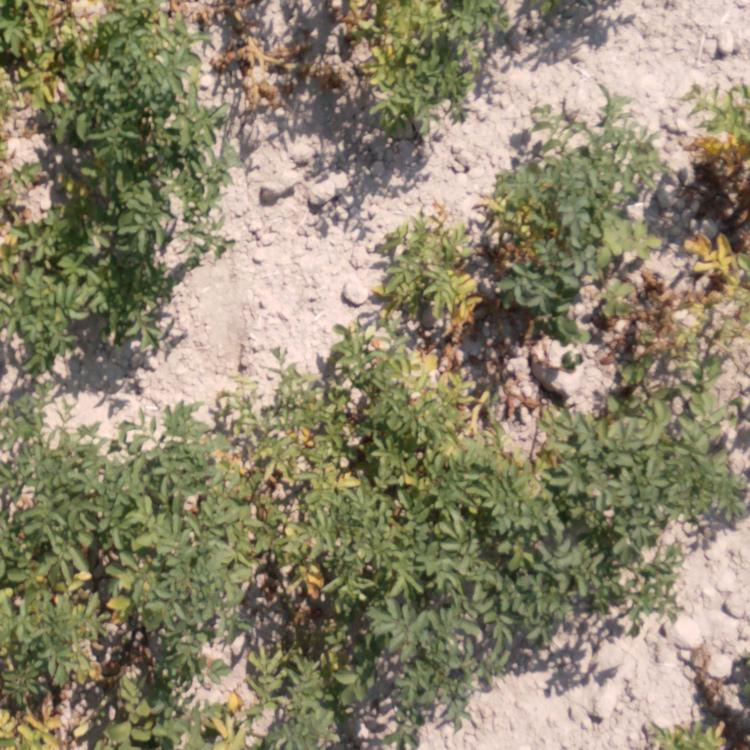healthy: (55, 117, 195, 342), (5, 403, 240, 529), (262, 625, 478, 735), (399, 506, 596, 619), (617, 403, 721, 608), (575, 123, 649, 229)
stressed: (3, 546, 245, 750), (250, 355, 376, 604), (384, 231, 500, 495), (11, 1, 200, 117), (338, 1, 487, 131), (623, 249, 750, 397), (504, 150, 570, 315), (684, 81, 750, 233), (1, 133, 43, 337), (518, 416, 605, 482), (623, 702, 750, 747), (234, 45, 301, 100)
